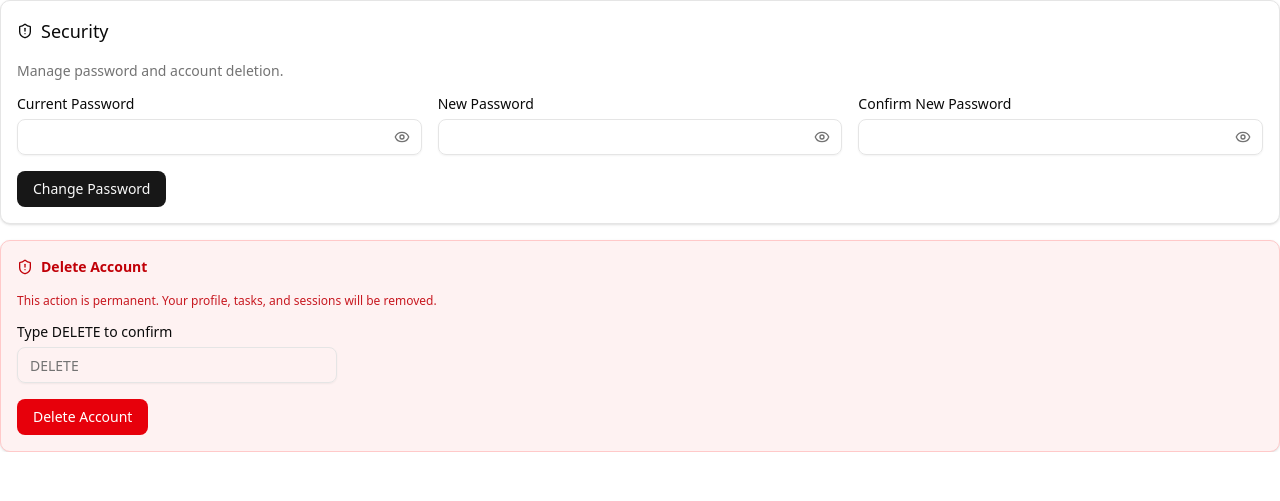
Test case: SecuritySettings Component › shows error when new password is shorter than 6 characters
Step 1. Type "currentPass" into the password field labelled "Current Password" → point(219, 137), box top-left (17, 119), bottom-right (422, 155)
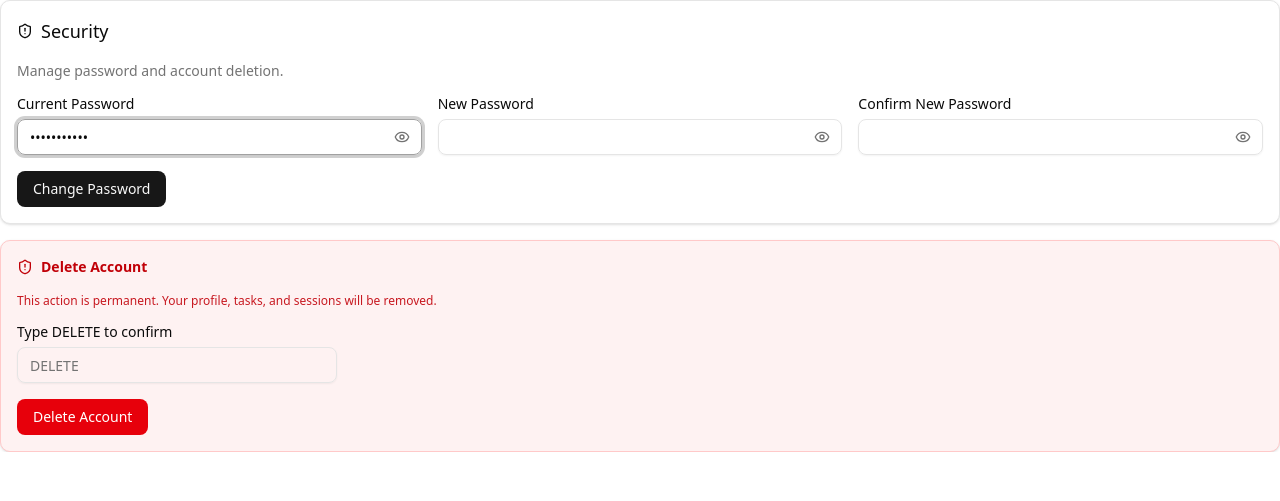
Step 2. Type "abc" into the password field labelled "New Password" → point(640, 137), box top-left (438, 119), bottom-right (842, 155)
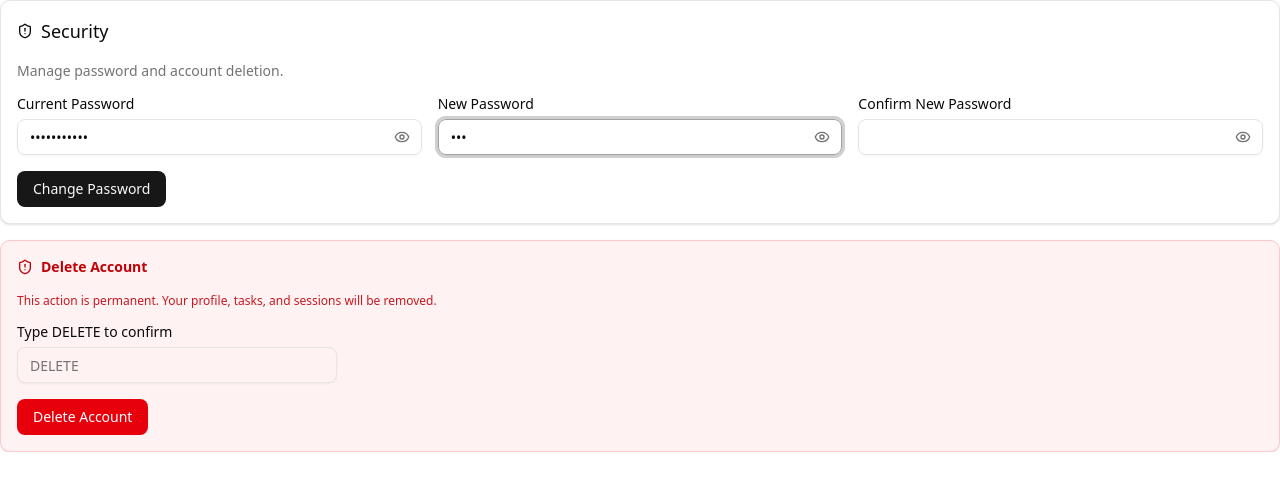
Step 3. Type "abc" into the password field labelled "Confirm New Password" → point(1061, 137), box top-left (858, 119), bottom-right (1263, 155)
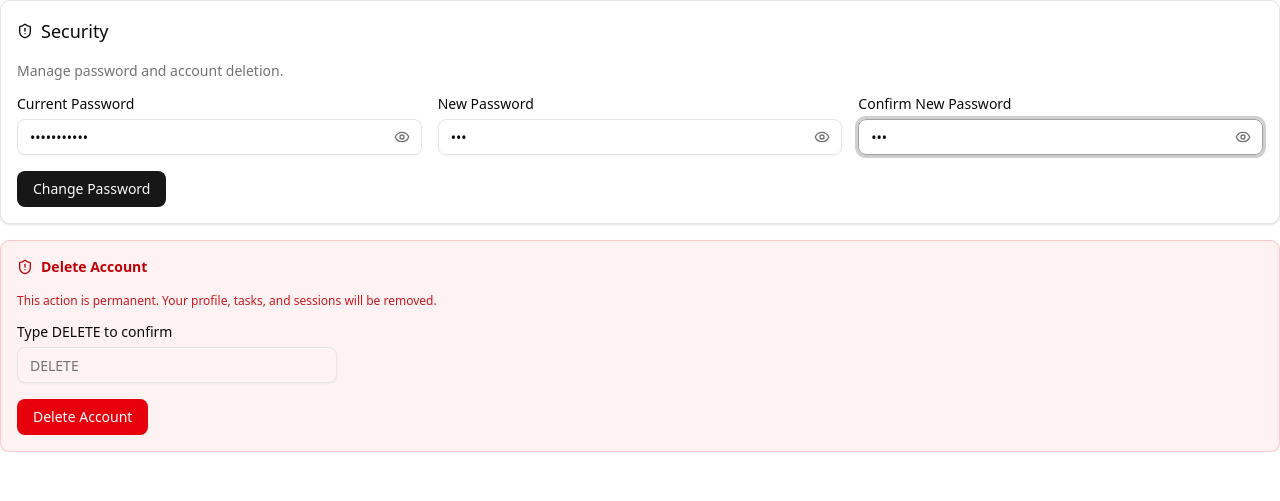
Step 4. Click the button "Change Password" → point(92, 189), box top-left (17, 171), bottom-right (166, 207)
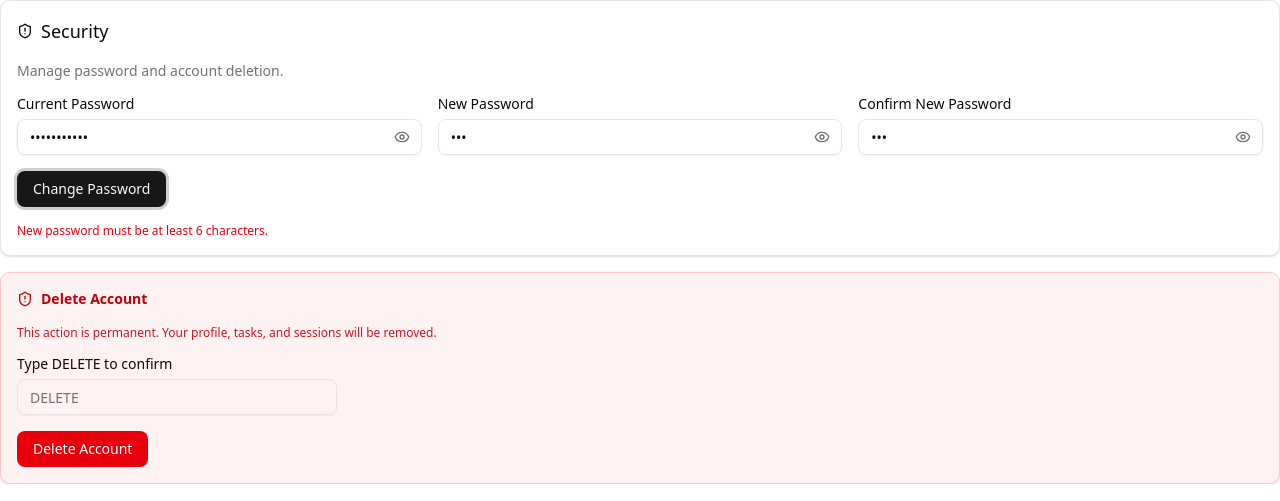
Check: the text "New password must be at least 6 characters." is shown, box top-left (17, 222), bottom-right (268, 239)
